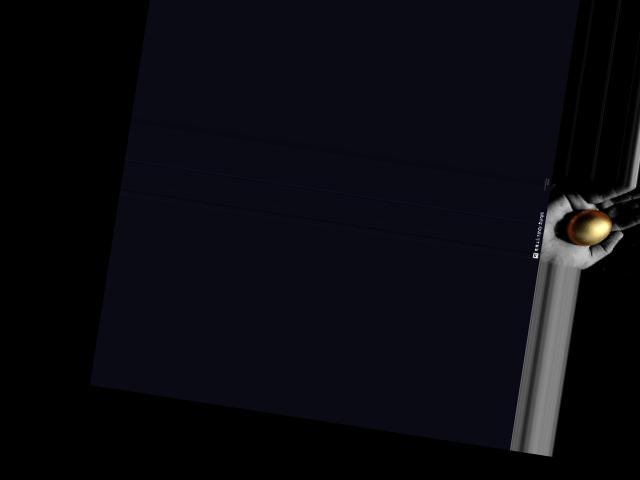egg: (565, 205, 614, 248)
